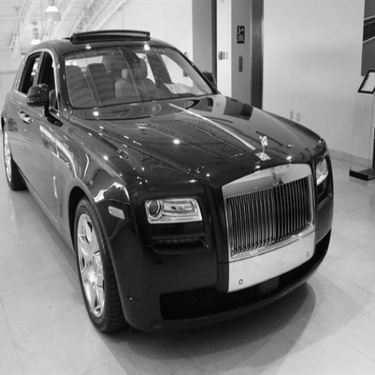car: (1, 22, 338, 337)
